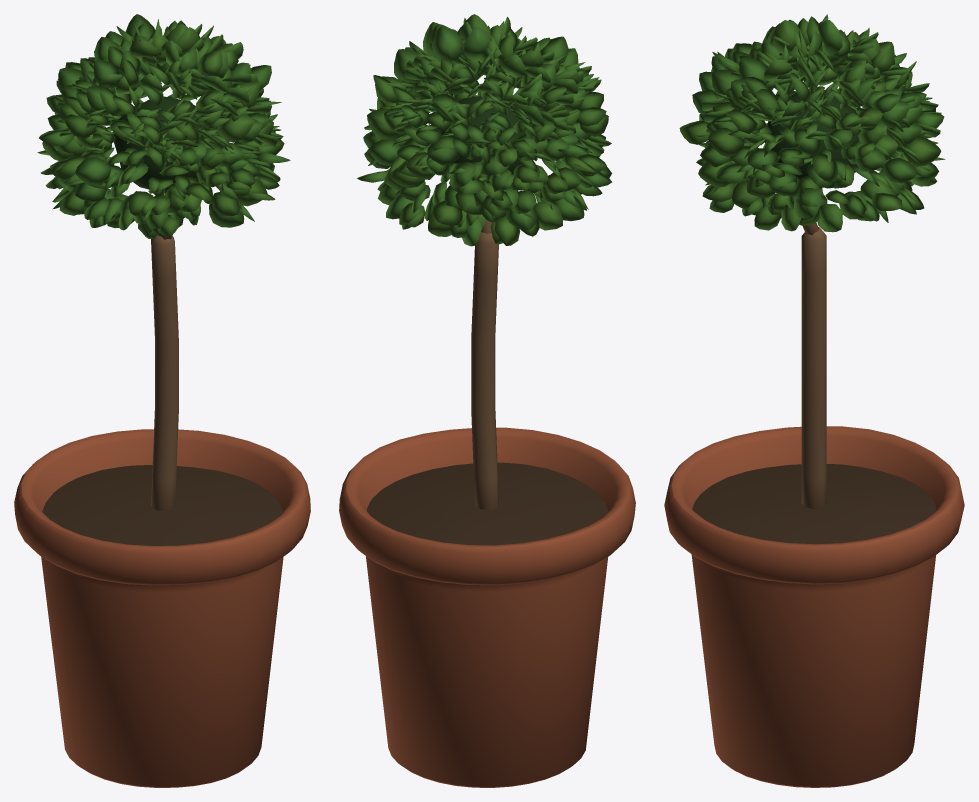
The model's file is pot_boxball.glb.
3 views of the same model, side by side, from view 1: azimuth 30°, elevation 25°; view 2: azimuth 150°, elevation 25°; view 3: azimuth 270°, elevation 25° (orthographic).
Parts seen in each view (by area): view 1: Sammel Putz, Sammel Pflanze, Sammel Holz, Sammel Blatt; view 2: Sammel Putz, Sammel Pflanze, Sammel Holz, Sammel Blatt; view 3: Sammel Putz, Sammel Pflanze, Sammel Holz, Sammel Blatt.
Boxes of the visible parts, <box> form: Sammel Putz: <box>14,429,310,787</box>; Sammel Pflanze: <box>37,14,290,238</box>; Sammel Holz: <box>151,234,178,510</box>; Sammel Blatt: <box>112,96,209,193</box>; Sammel Putz: <box>339,427,635,787</box>; Sammel Pflanze: <box>357,14,611,246</box>; Sammel Holz: <box>471,194,498,509</box>; Sammel Blatt: <box>441,96,526,176</box>; Sammel Putz: <box>664,426,964,787</box>; Sammel Pflanze: <box>679,14,945,232</box>; Sammel Holz: <box>801,223,826,508</box>; Sammel Blatt: <box>765,92,861,187</box>.
Size of the model in its own units: 0.4778 by 1.29 by 0.4793.
